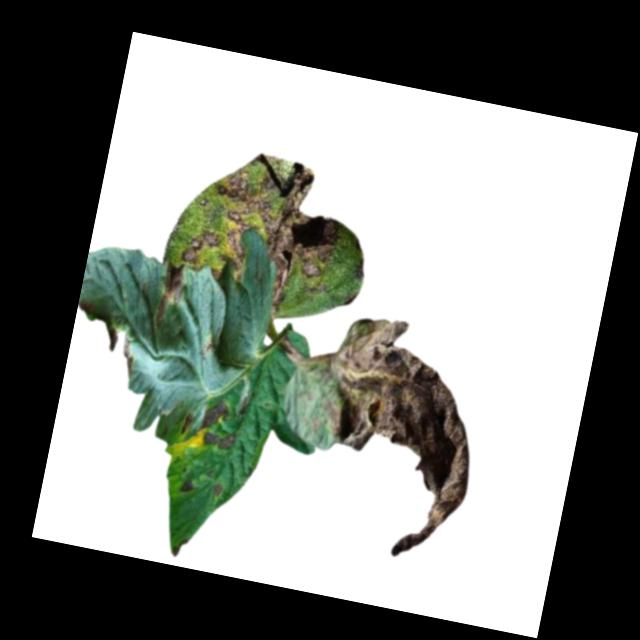Early_blight: (293, 309, 501, 572), (161, 138, 353, 325), (151, 263, 190, 333), (113, 331, 140, 380), (198, 396, 233, 432), (199, 427, 238, 455), (177, 478, 197, 495), (210, 482, 226, 502)
